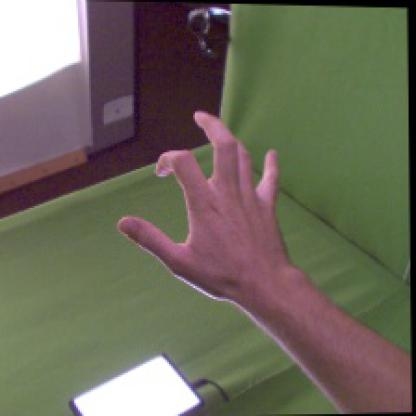Hand: (116, 110, 294, 302)
